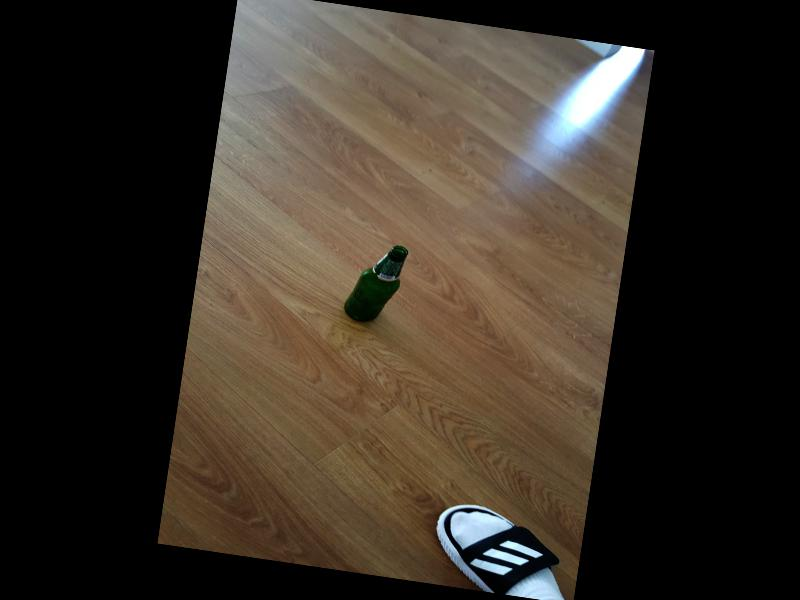Beer: (344, 241, 408, 326)
